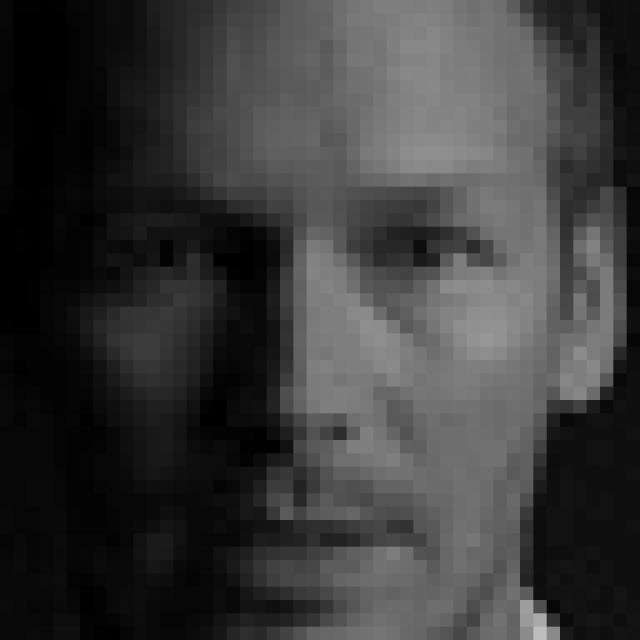neutral: (107, 160, 531, 618)
